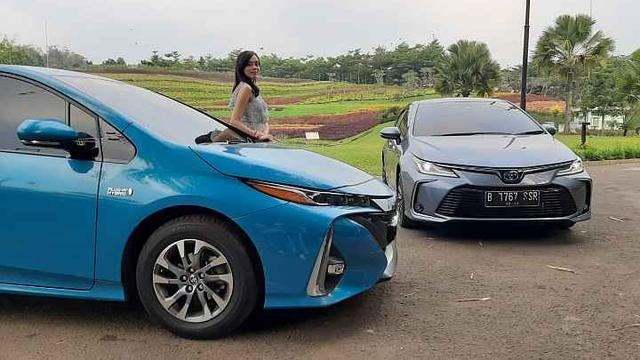plate: (487, 190, 539, 207)
